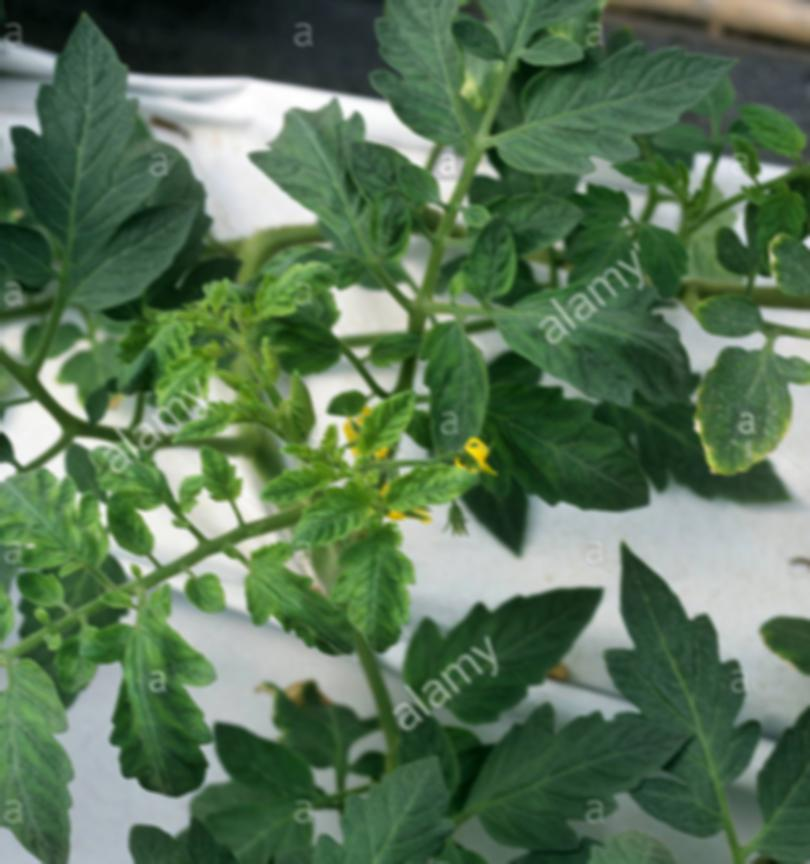Tomato leaf yellow virus: (333, 519, 423, 656), (287, 485, 394, 559), (360, 458, 488, 514)
